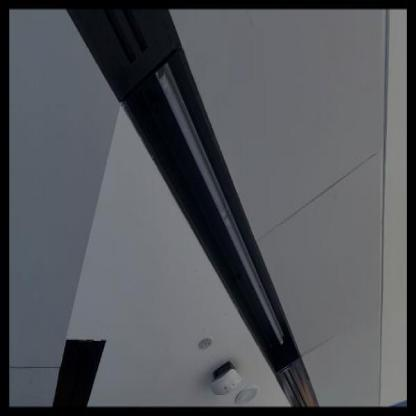light_off: (150, 61, 291, 353)
